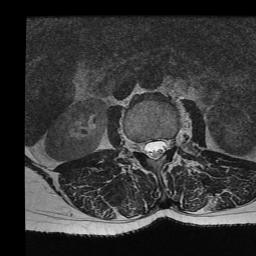CCS_normal: (151, 130, 159, 165)
LFS_normal: (167, 129, 176, 154)
LLS_normal: (158, 131, 167, 160)
RFS_normal: (134, 131, 143, 157)
RLS_normal: (143, 133, 150, 159)
